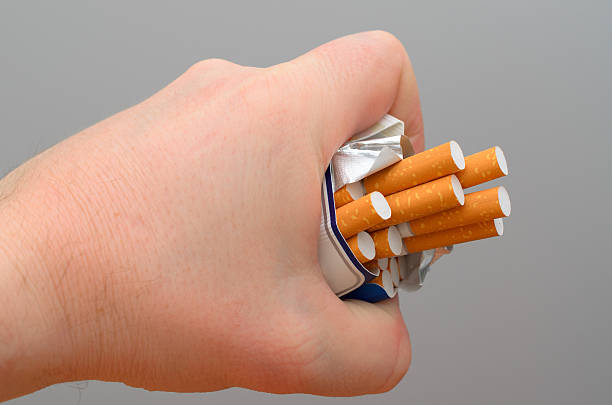cigarette: (316, 112, 431, 304), (397, 186, 511, 239), (366, 139, 466, 198), (384, 174, 465, 225), (402, 216, 505, 254), (334, 191, 392, 239), (457, 145, 508, 187), (372, 225, 404, 258), (334, 180, 365, 209), (347, 230, 375, 261), (368, 271, 397, 294), (388, 258, 401, 287), (363, 257, 389, 271), (395, 257, 407, 280)
